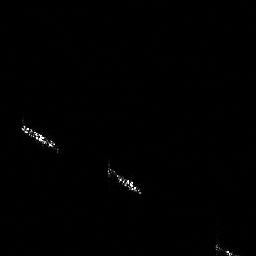ship: (102, 159, 145, 197), (17, 120, 62, 156)
